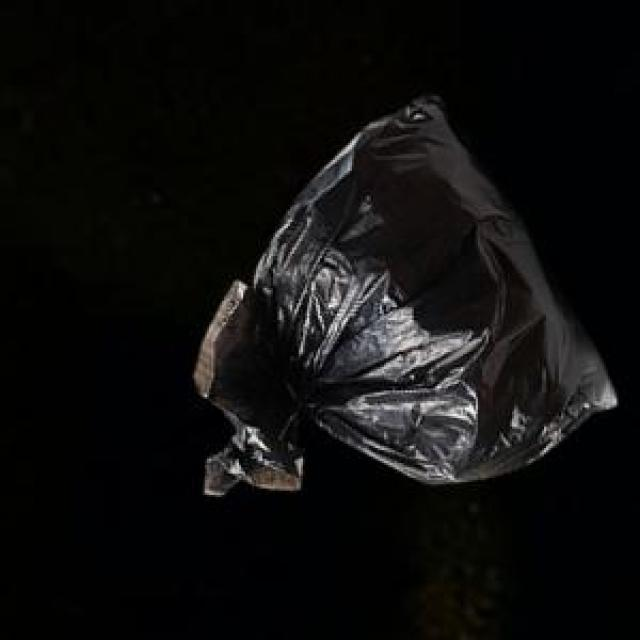miscellaneous trash: (190, 92, 612, 491)
